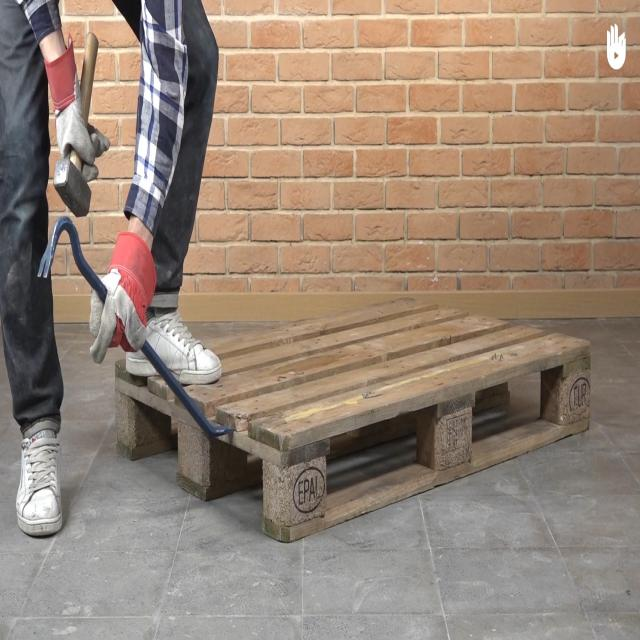Palette: (115, 304, 593, 548)
